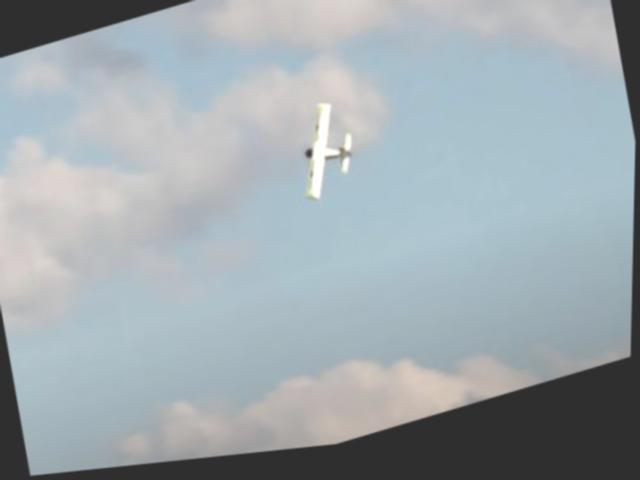uav: (288, 100, 366, 215)
